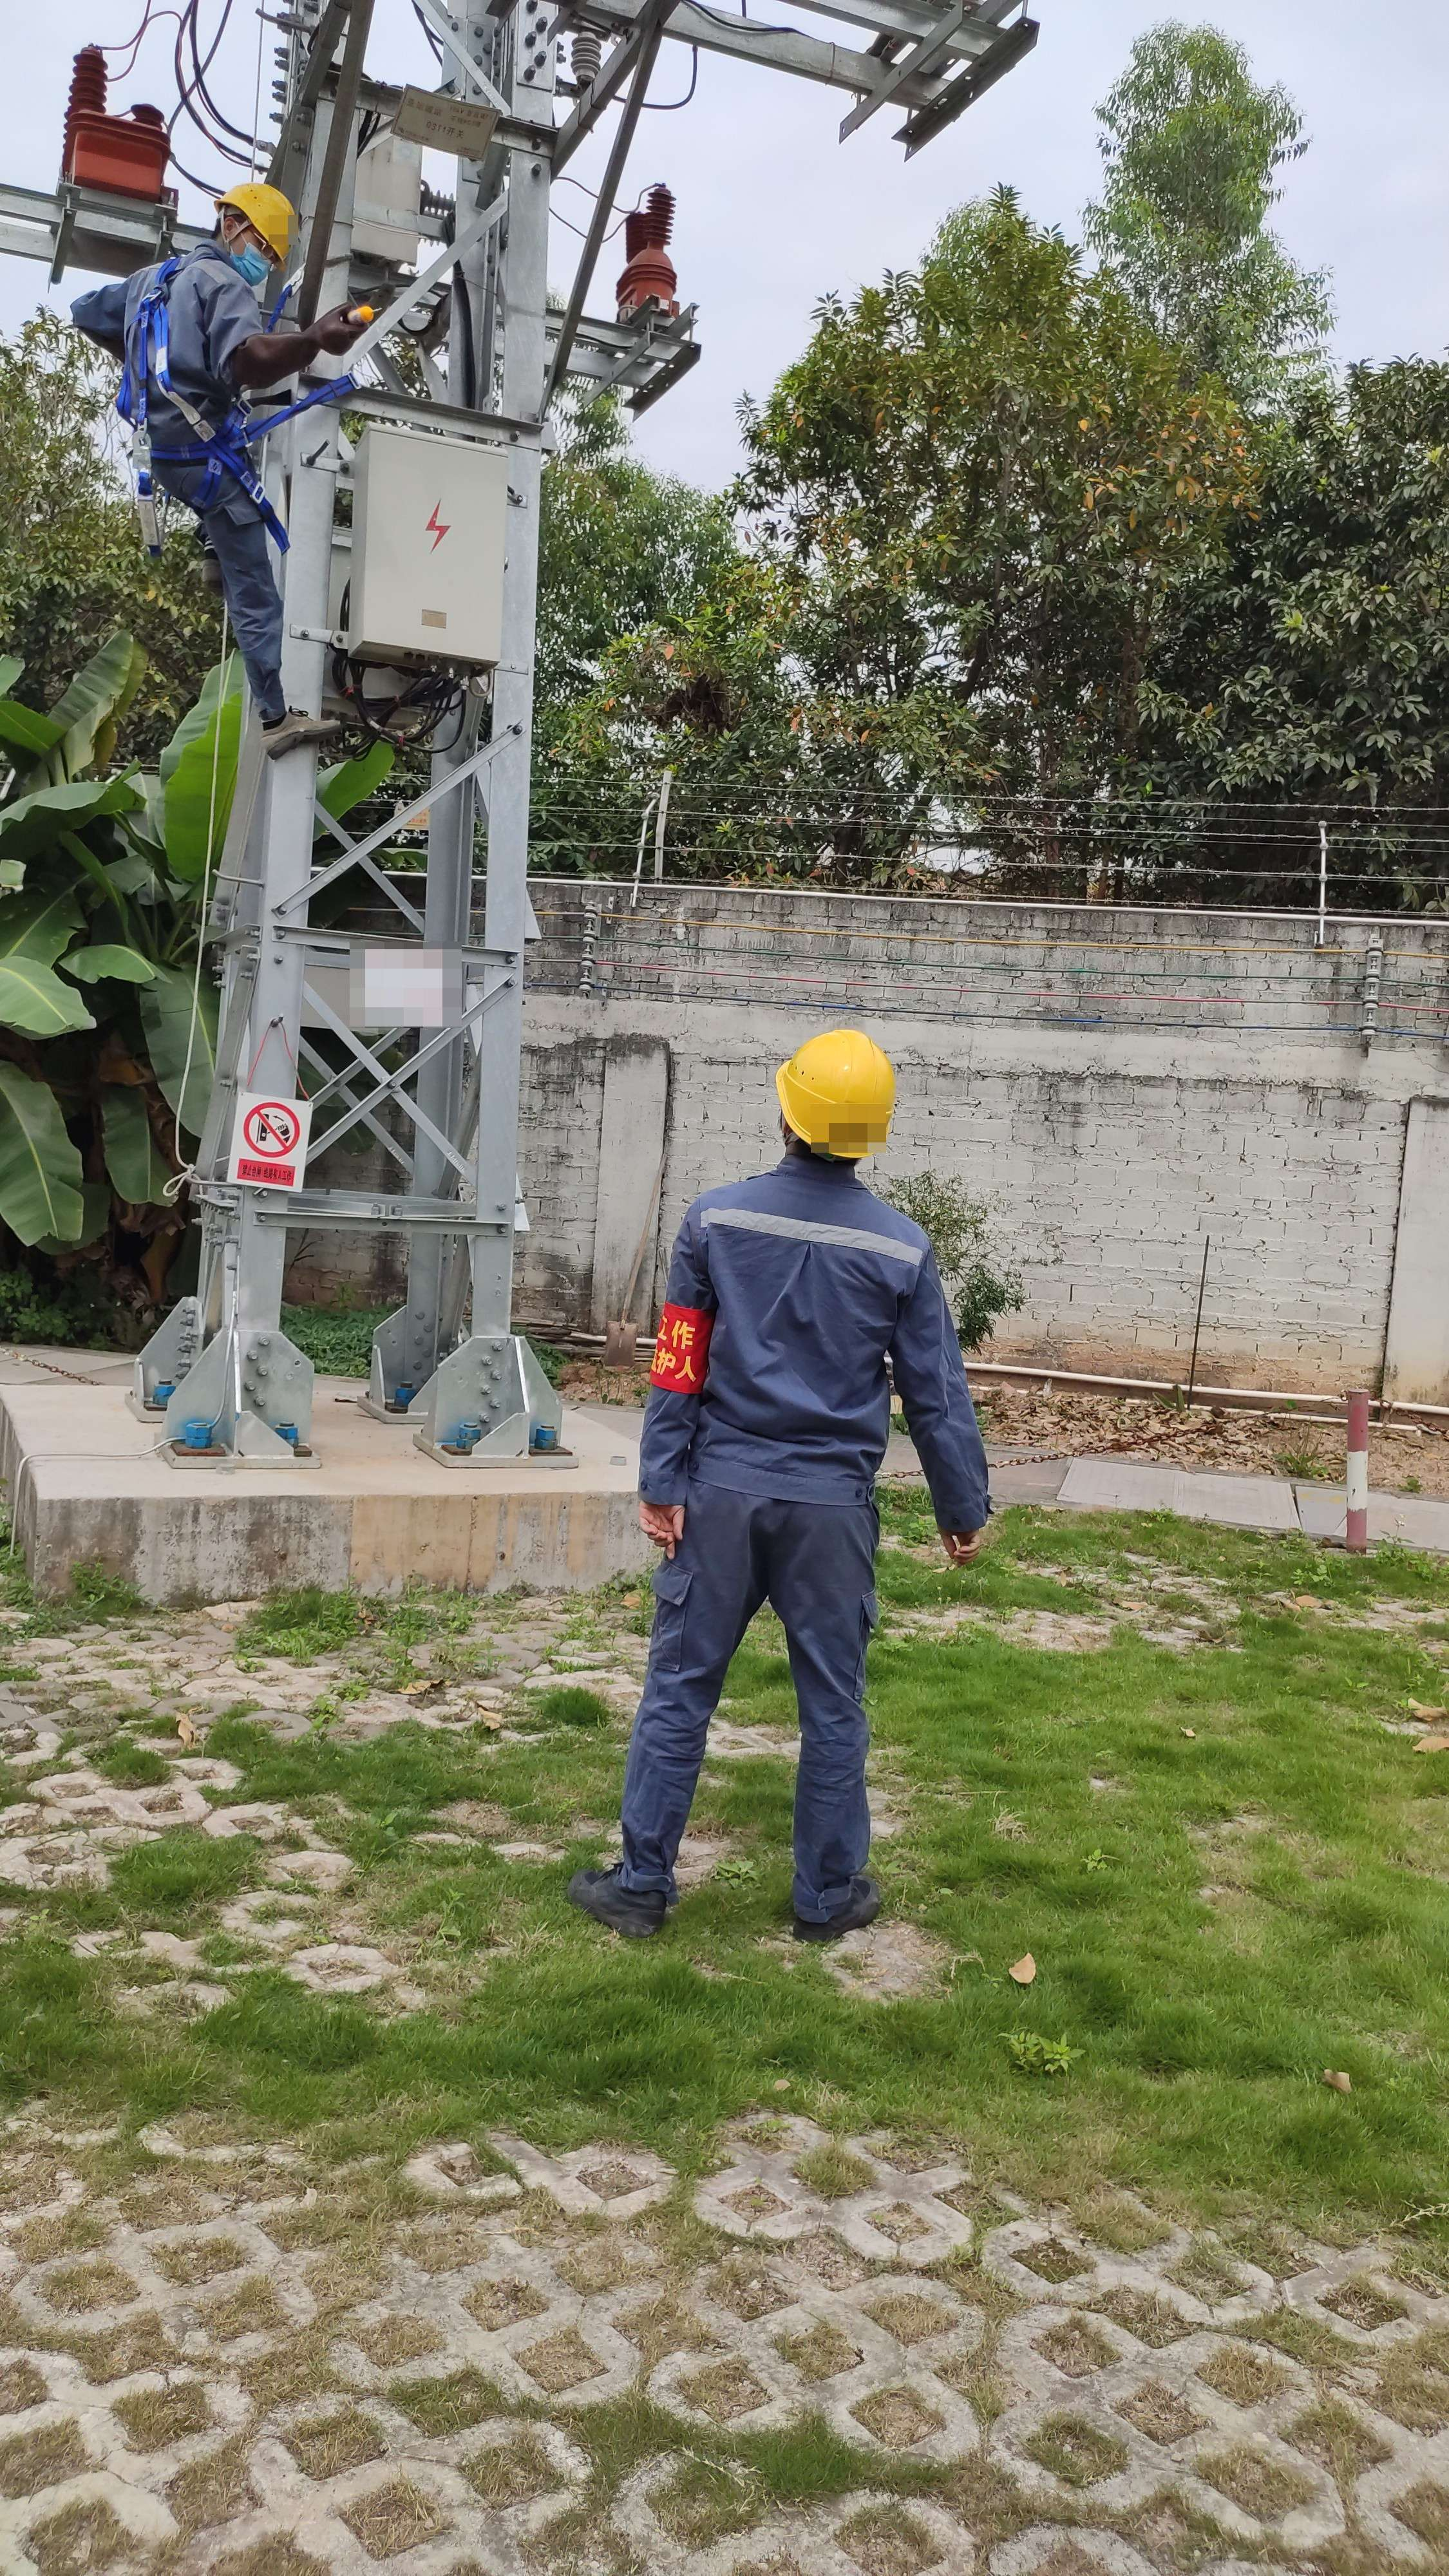downsuit: (609, 1479, 911, 1895), (149, 451, 308, 702)
upsuit: (663, 1171, 943, 1465), (119, 258, 274, 414)
